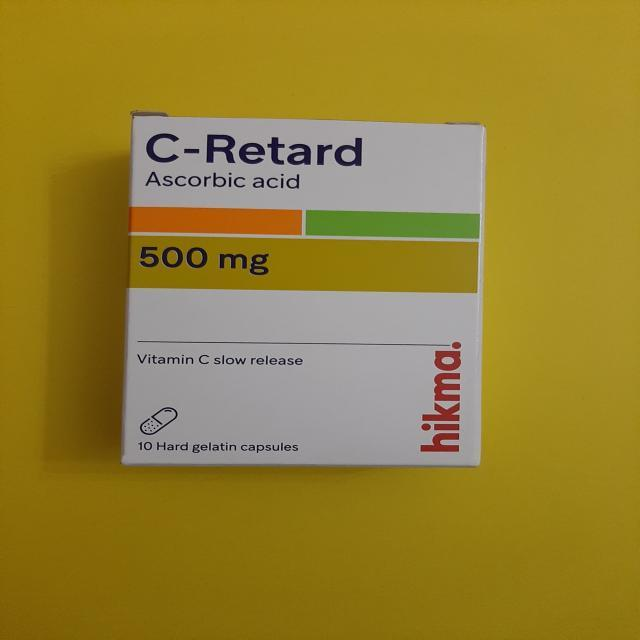Medicine Name: (143, 128, 368, 174)
